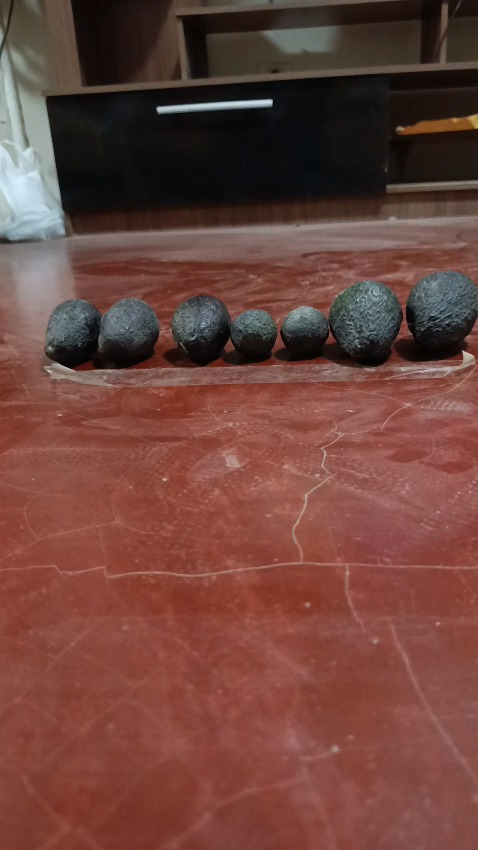Primera: (329, 279, 403, 363), (405, 269, 478, 354)
Segunda: (97, 297, 160, 365), (171, 293, 231, 362), (44, 299, 101, 367)
Tercera: (280, 306, 328, 357), (230, 309, 277, 359)
